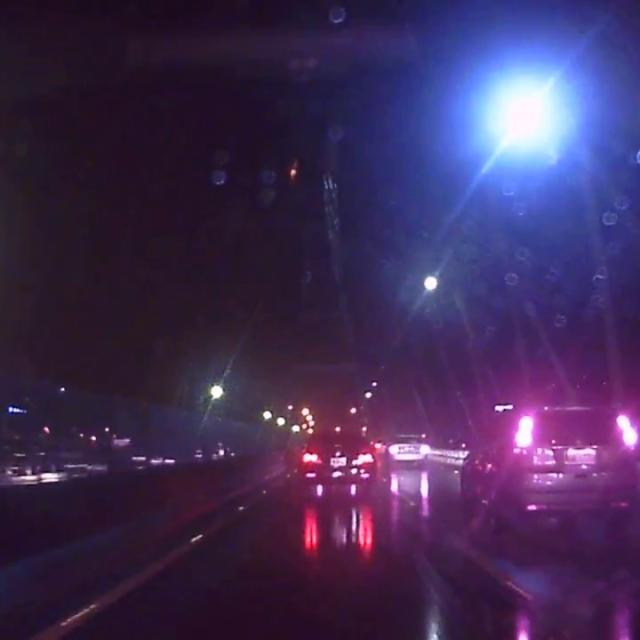Car: (450, 403, 632, 530), (291, 425, 375, 487)
